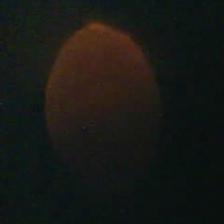fertile: (42, 22, 159, 196)
